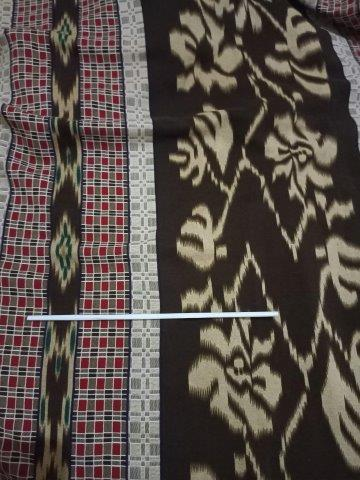sedotan: (27, 311, 277, 321)
